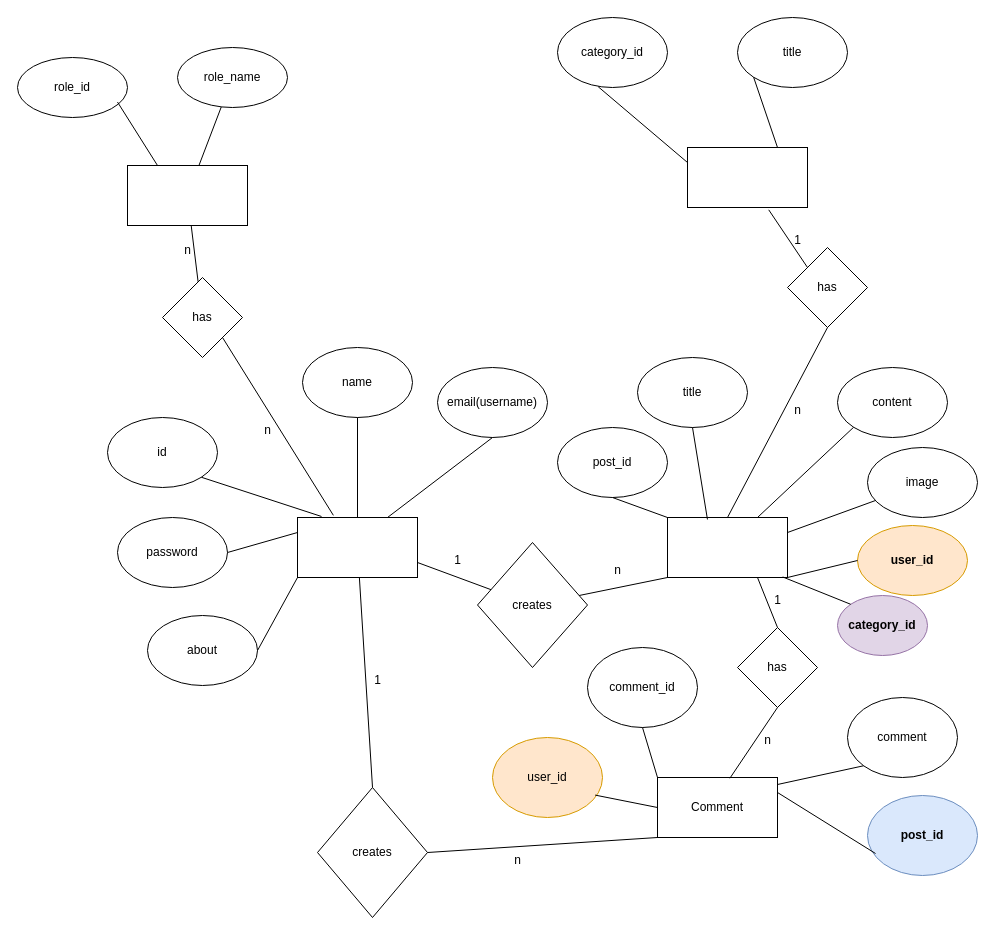
Image size: 995x935. Some labels were removed from this diagram. The shapes that lost their labels are listed below. From the top down, each one's box as (x1, y1, x2, y2) in pixels, then its label:
(126, 164, 248, 226): Role
(686, 146, 808, 208): category
(296, 516, 418, 578): User
(666, 516, 788, 578): Post
